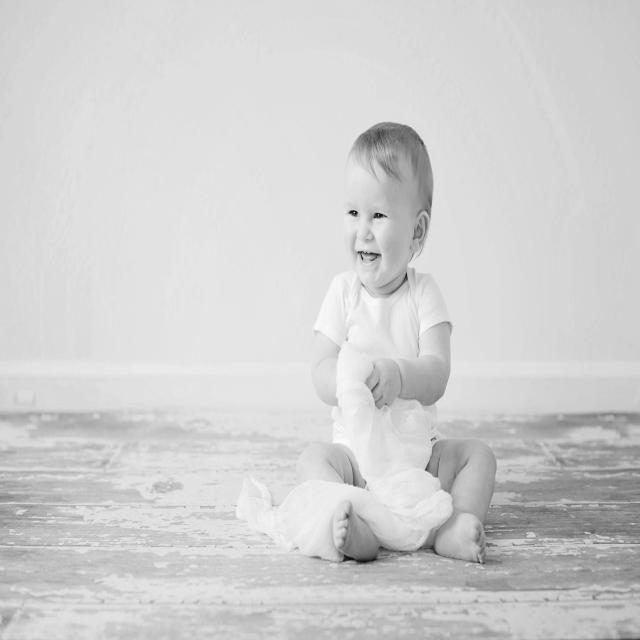sit: (332, 117, 502, 598)
